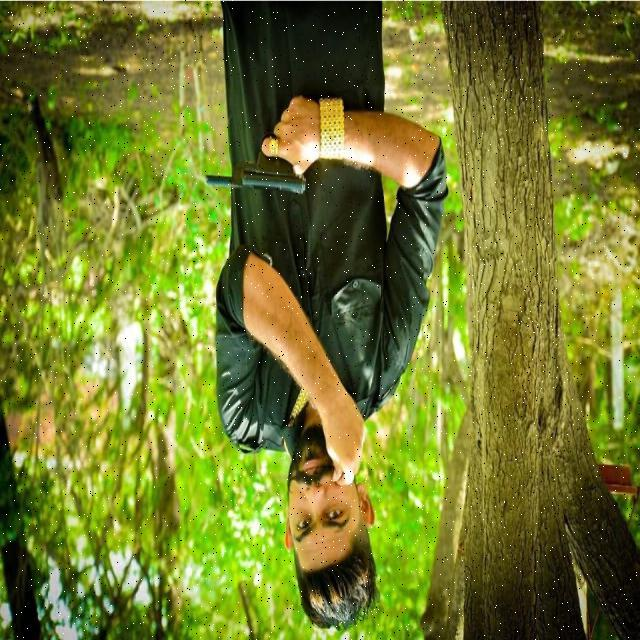gun: (196, 87, 310, 202)
